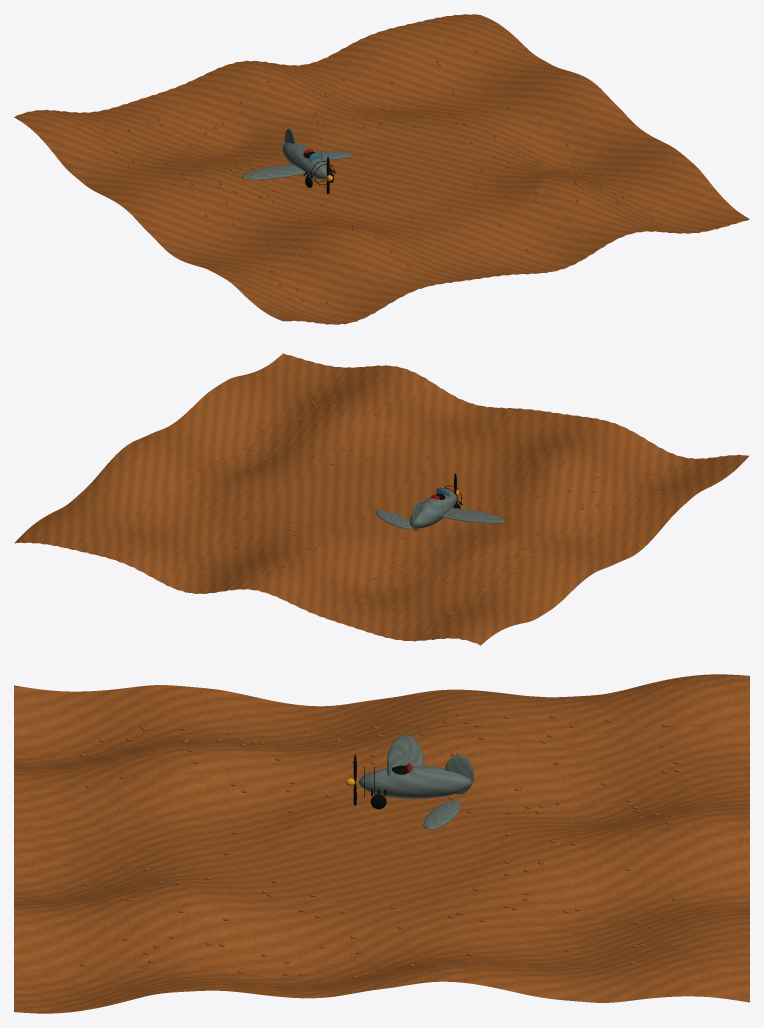
The model's file is prince-desert.glb.
3 renders of one model, top to bottom at view 1: azimuth 30°, elevation 25°; view 2: azimuth 150°, elevation 25°; view 3: azimuth 270°, elevation 25°, orthographic. The views are drawn at different scales.
Visible parts, largest first — view 1: Sculpted dunes, Tapered vintage fuselage; view 2: Sculpted dunes, Tapered vintage fuselage; view 3: Sculpted dunes, Tapered vintage fuselage, Open dark cockpit.
Part boxes in pixels (x1,y1,x2,y2): Sculpted dunes: [14, 14, 749, 324]; Tapered vintage fuselage: [242, 128, 352, 179]; Sculpted dunes: [14, 353, 749, 645]; Tapered vintage fuselage: [376, 487, 504, 530]; Sculpted dunes: [14, 674, 749, 1013]; Tapered vintage fuselage: [358, 734, 473, 829]; Open dark cockpit: [353, 754, 427, 809].
Size of the model in its own units: 22 by 2.36 by 22.
6 materials, 6 textured.
